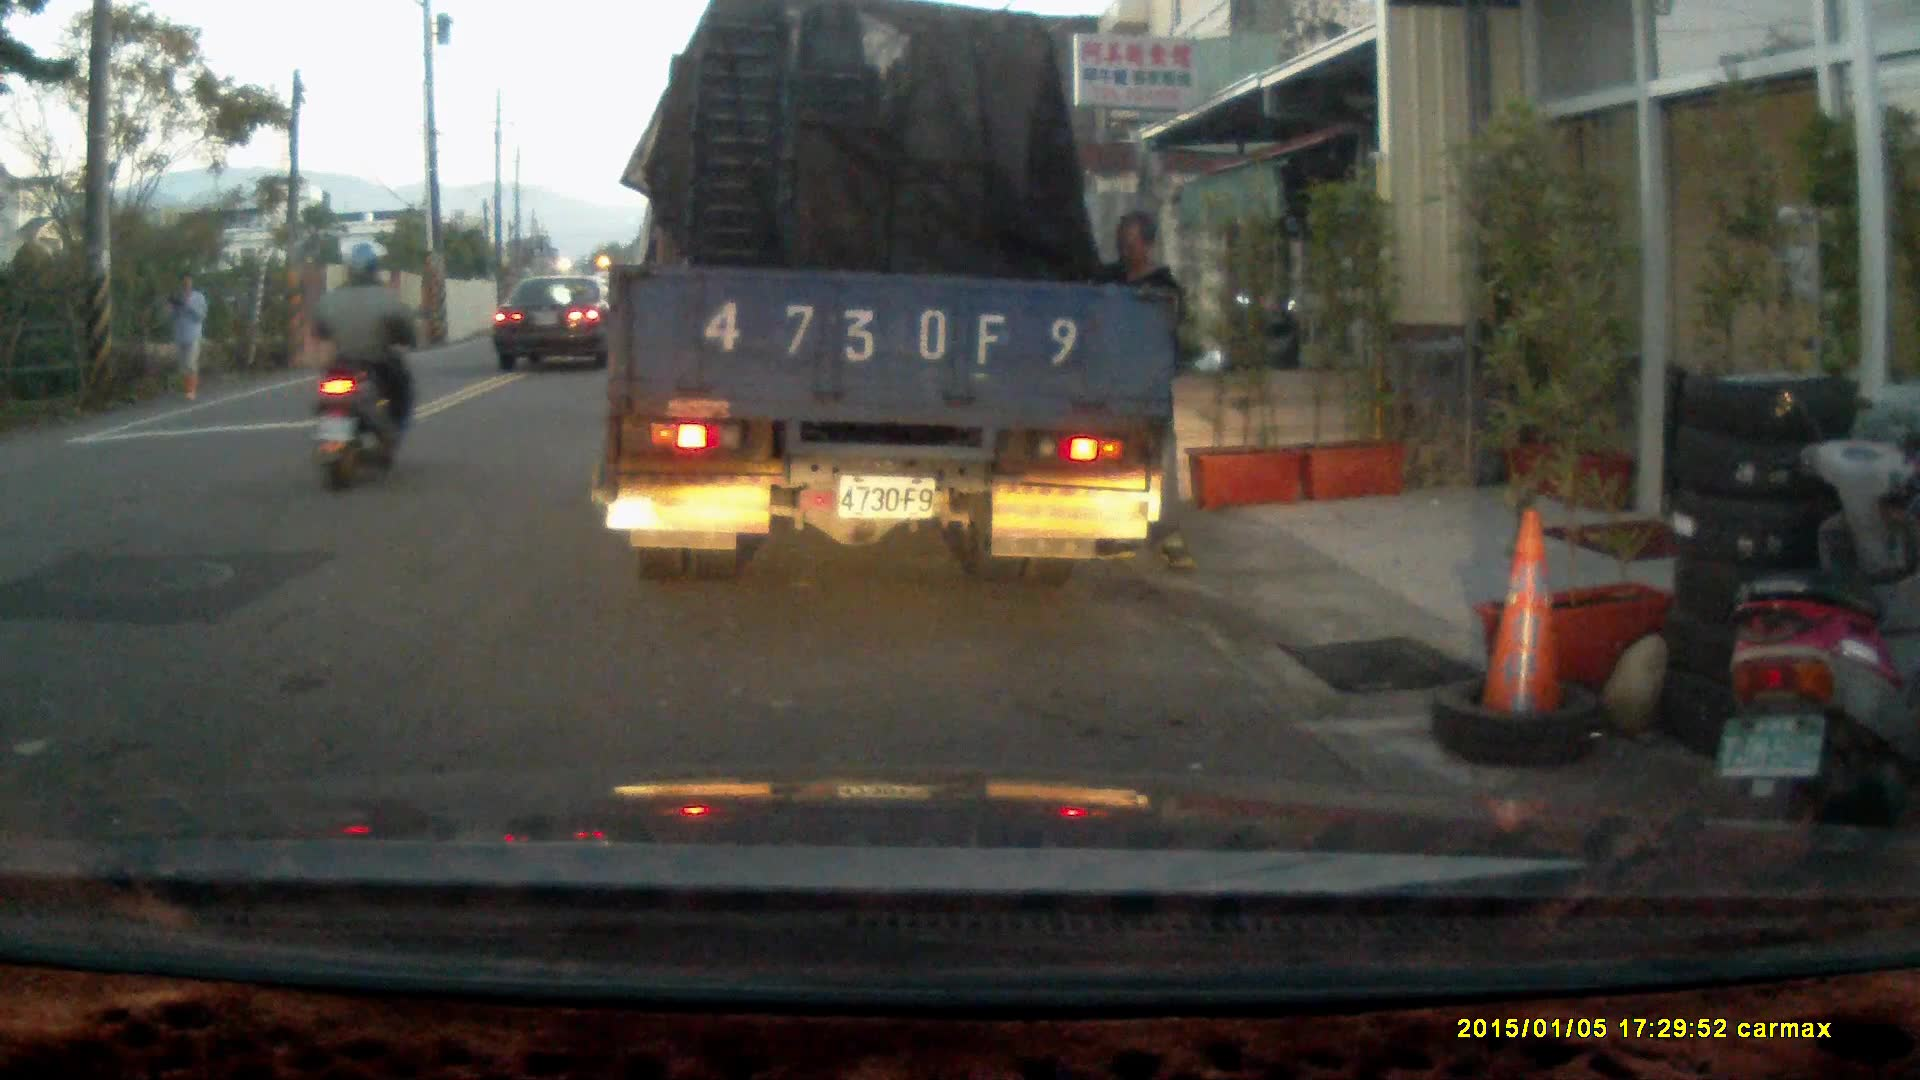pedestrian: (1063, 207, 1192, 565), (165, 270, 212, 406)
rider: (303, 238, 431, 492)
vehicle: (605, 23, 1181, 572), (492, 275, 628, 372)
